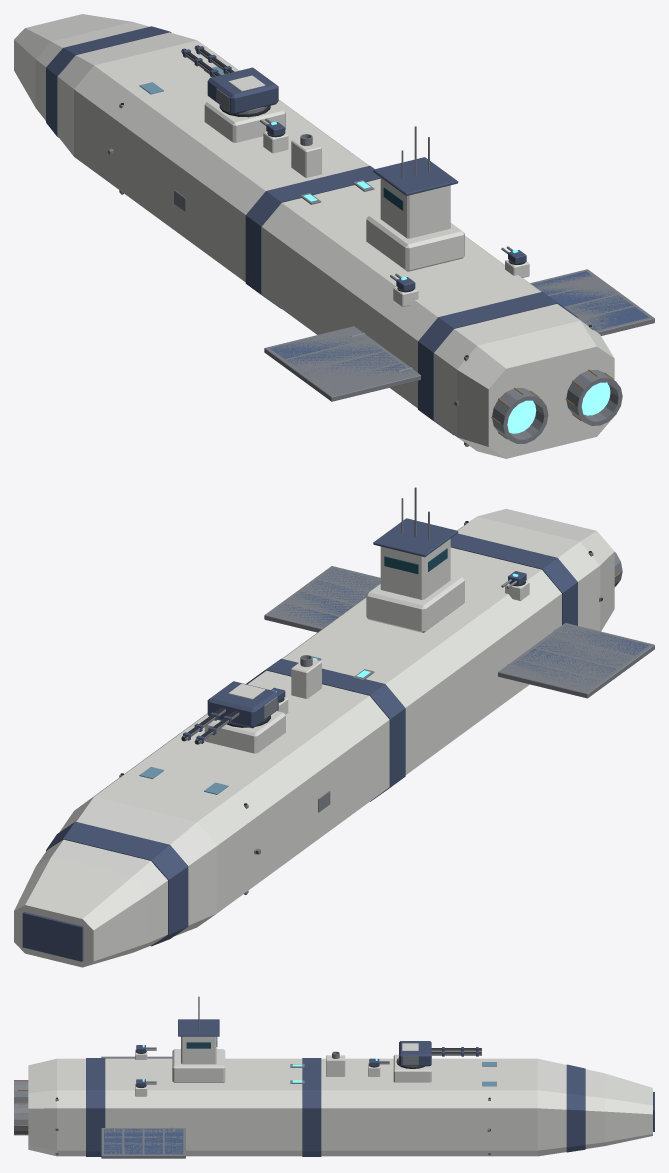
Rendered from earth_starter_escort.glb.
3 views of the same model, one above another, from view 1: azimuth 30°, elevation 25°; view 2: azimuth 150°, elevation 25°; view 3: azimuth 270°, elevation 25° (orthographic). The views are drawn at different scales.
Parts seen in each view (by area): view 1: FleetHull, mesh_turret_gun_1, mesh_recoil_gun_1; view 2: FleetHull, mesh_turret_gun_1, mesh_recoil_gun_1; view 3: FleetHull, mesh_turret_gun_1, mesh_recoil_gun_1.
Part boxes in pixels (x1,y1,x2,y2): FleetHull: [14, 14, 654, 458]; mesh_turret_gun_1: [207, 67, 278, 114]; mesh_recoil_gun_1: [181, 45, 234, 77]; FleetHull: [14, 487, 654, 967]; mesh_turret_gun_1: [207, 681, 278, 728]; mesh_recoil_gun_1: [181, 707, 239, 744]; FleetHull: [14, 996, 654, 1158]; mesh_turret_gun_1: [398, 1041, 431, 1067]; mesh_recoil_gun_1: [431, 1047, 481, 1056].
Size of the model in its own units: 97.6 by 69.83 by 267.
